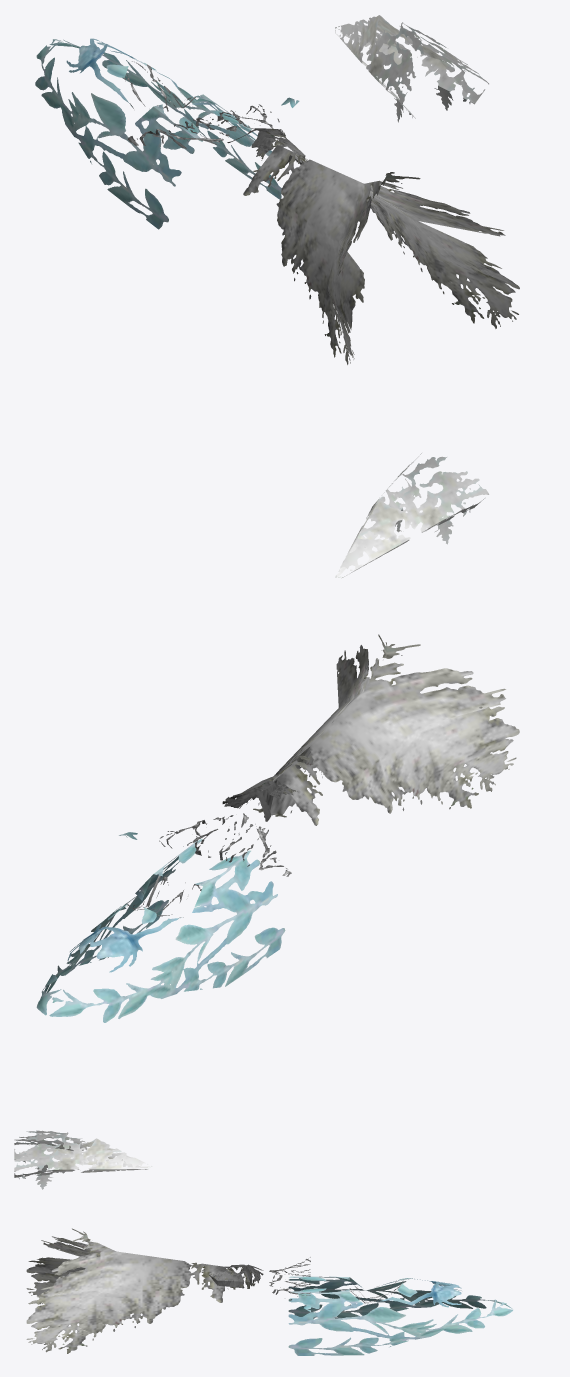
3 views of the same model, one above another, from view 1: azimuth 30°, elevation 25°; view 2: azimuth 150°, elevation 25°; view 3: azimuth 270°, elevation 25° (orthographic). The views are drawn at different scales.
Visible parts, largest first — view 1: Object58; view 2: Object58; view 3: Object58.
Boxes of the visible parts, x1,y1,x2,y2 form: Object58: (35,15,519,364); Object58: (36,453,519,1022); Object58: (14,1130,512,1355).
Bounding box in the file's own units: 17549 × 26645 × 59380.
